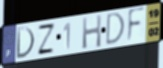1: (63, 21, 71, 50)
D: (105, 11, 126, 48), (15, 26, 36, 61)
F: (126, 6, 146, 46)
H: (82, 13, 103, 51)
Z: (36, 23, 57, 57)
